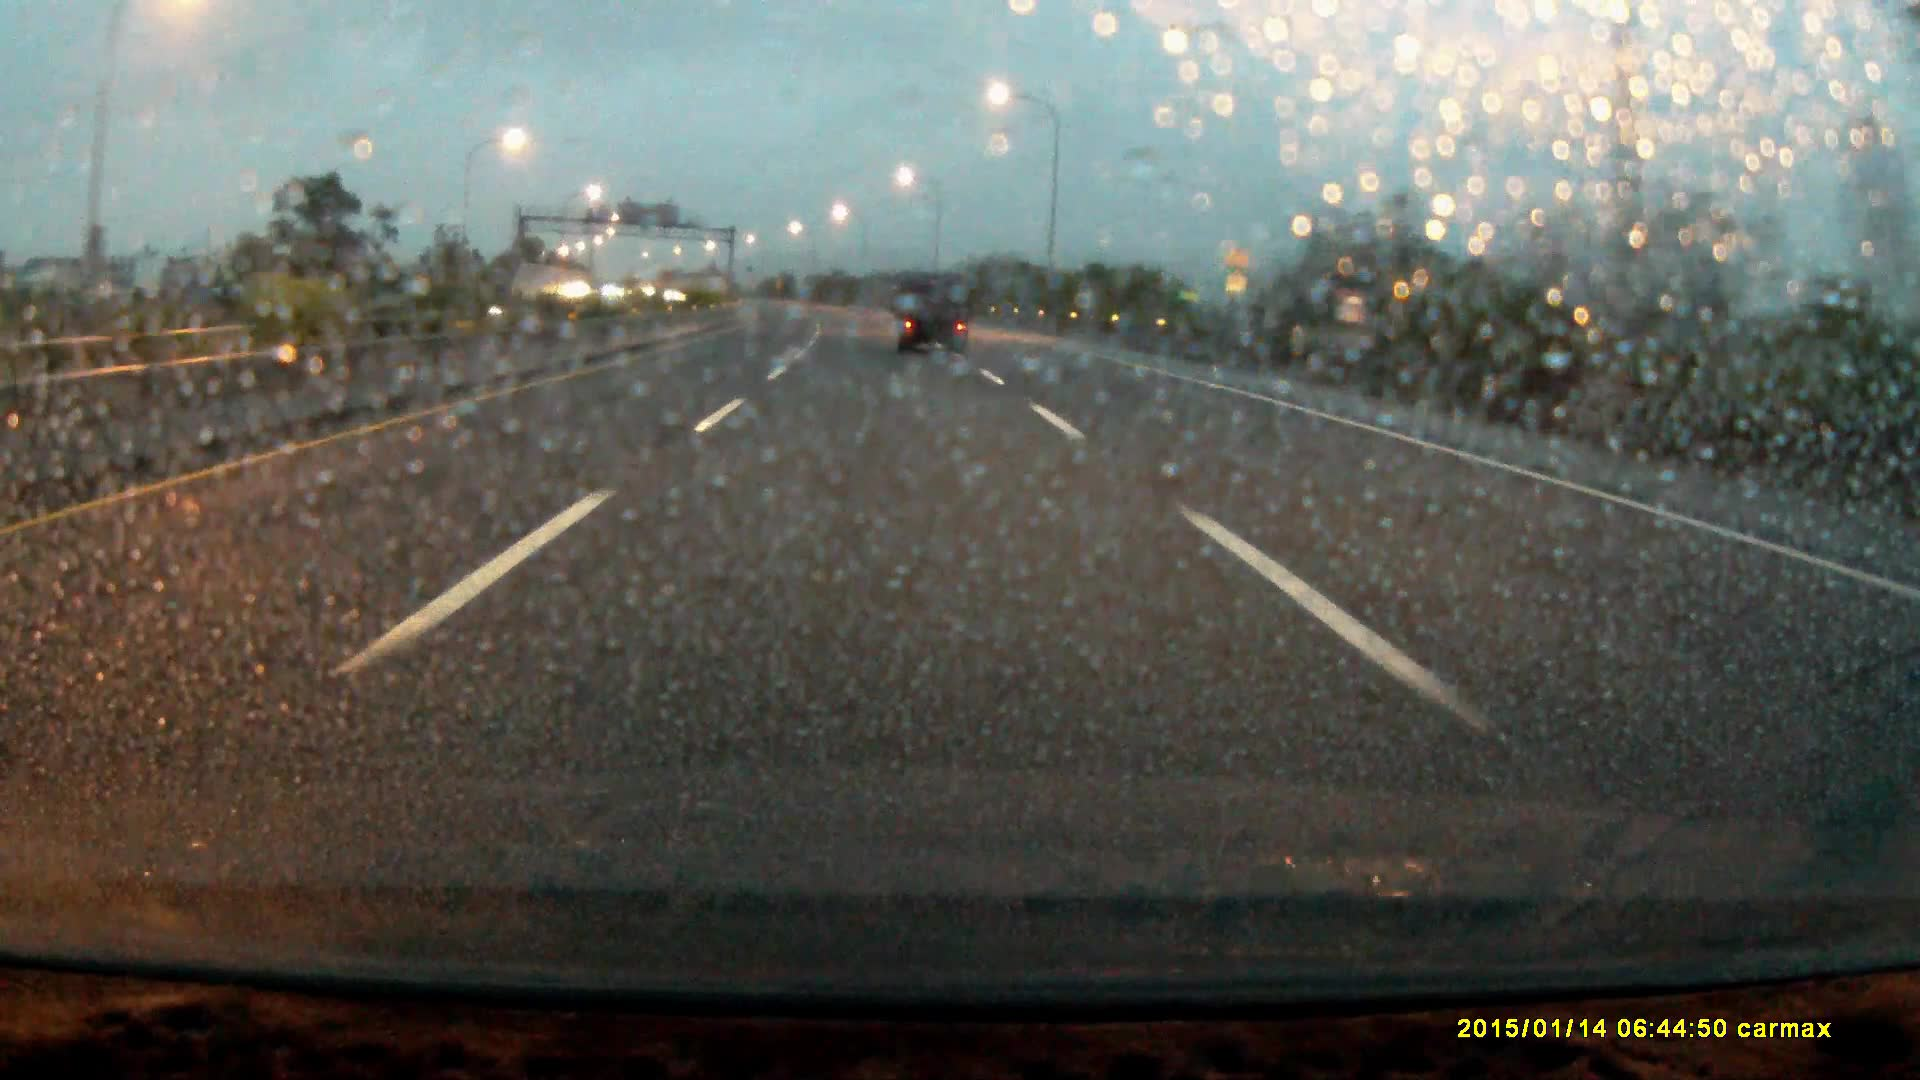vehicle: (897, 272, 972, 355)
